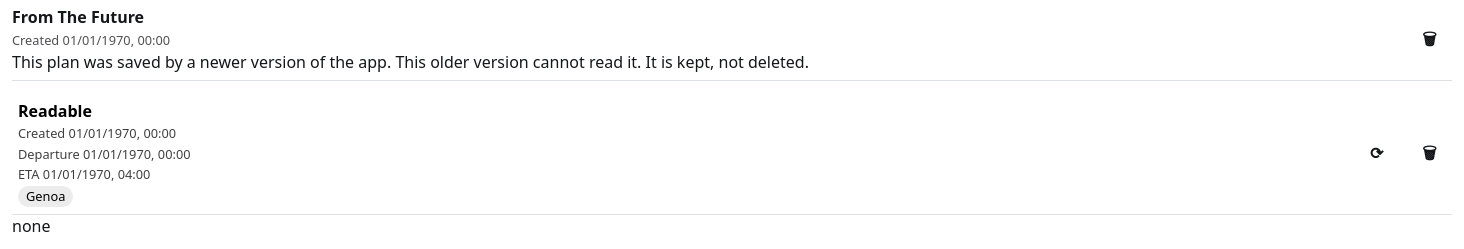
Test: PlansList recalculate (#114) › an unreadable record › the two-tap delete removes the unreadable record from IndexedDB and leaves readable rows
This screenshot has width=1464, height=249.
expect the text "From The Future" is shown: met, box [12,6,144,28]
expect the list item that starts with "From The Future" is shown: met, box [12,0,1452,81]
Click the button named "Delete plan": (1429, 40) [1407,18,1452,62]
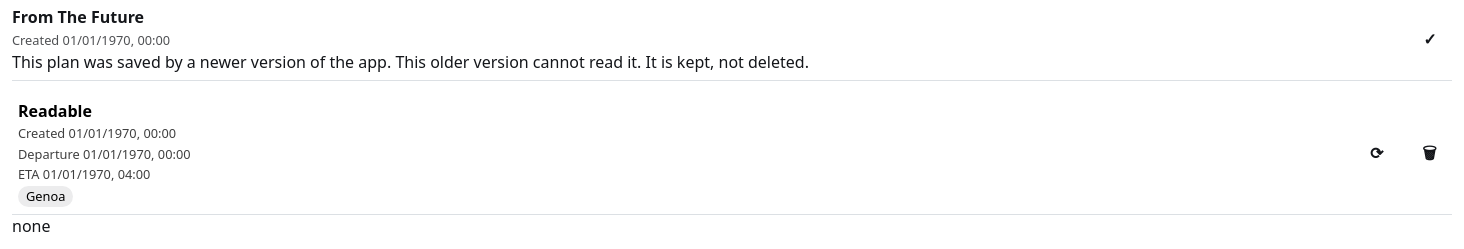
Click the button named "Confirm delete": (1430, 40) [1408,18,1452,62]
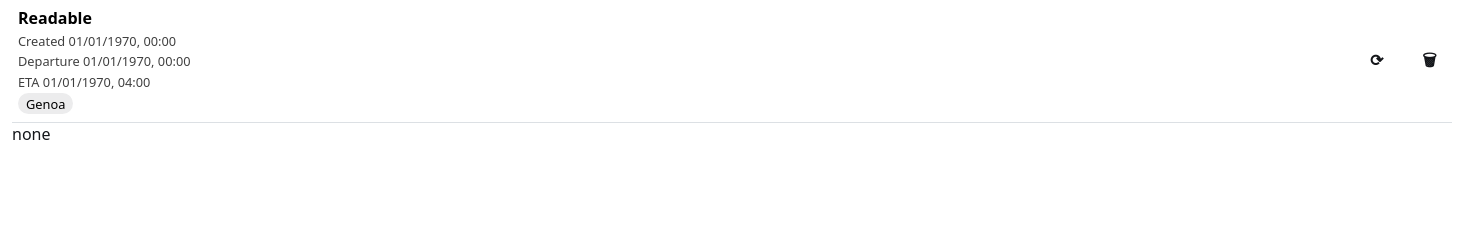
expect the text "From The Future" is gone: met
